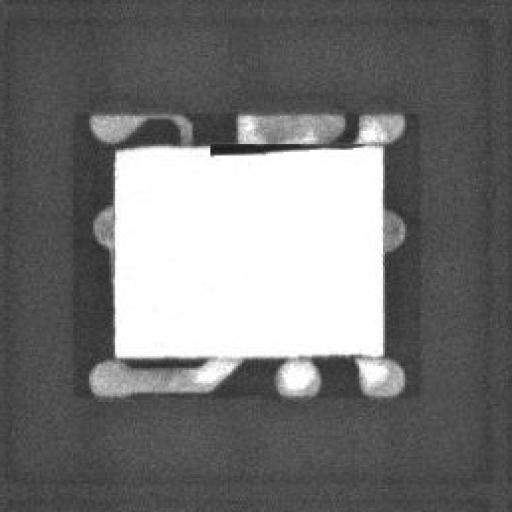DIE_BROKEN: (202, 136, 348, 154)
